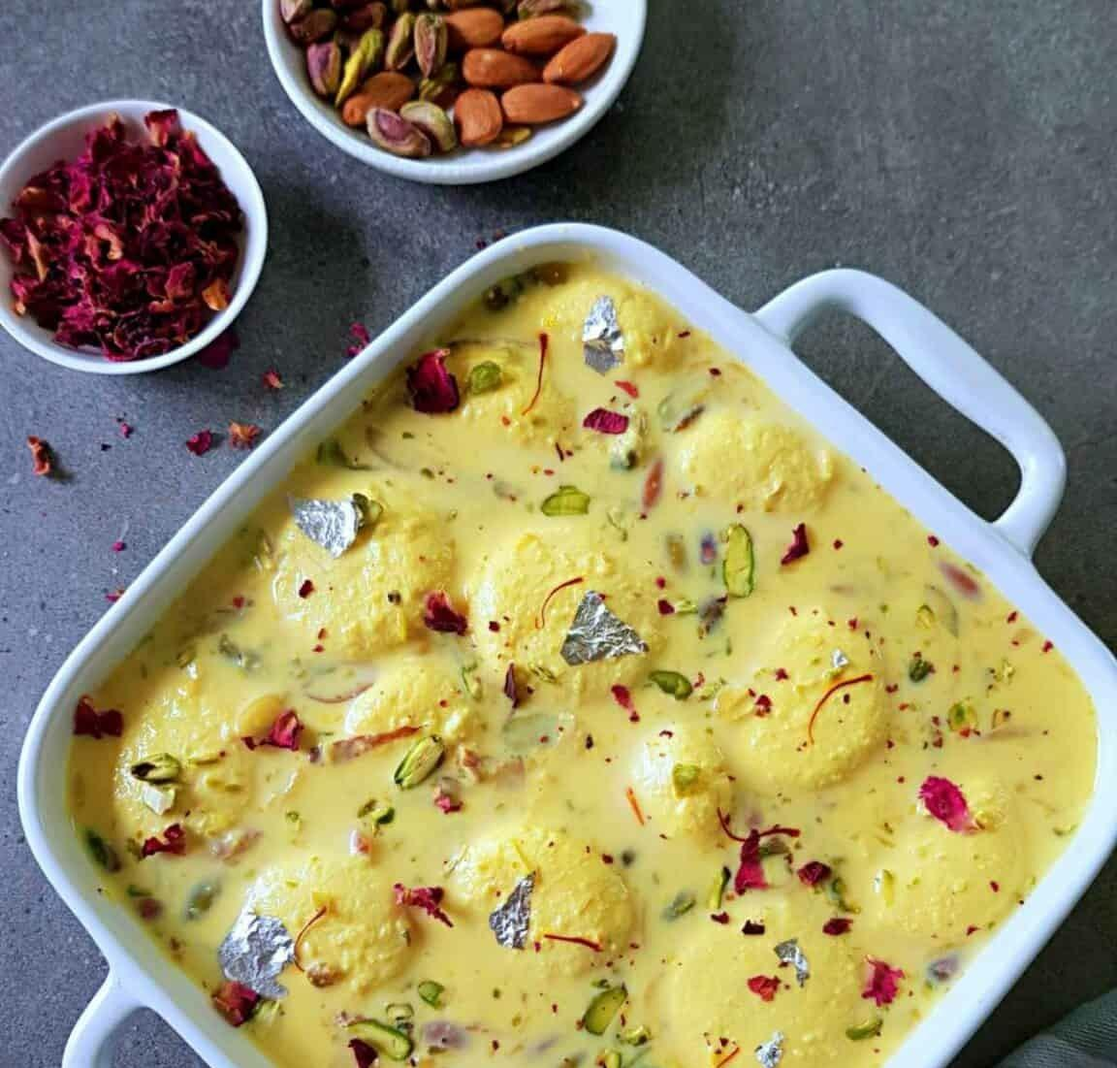RasMalai: (59, 272, 1096, 1068)
